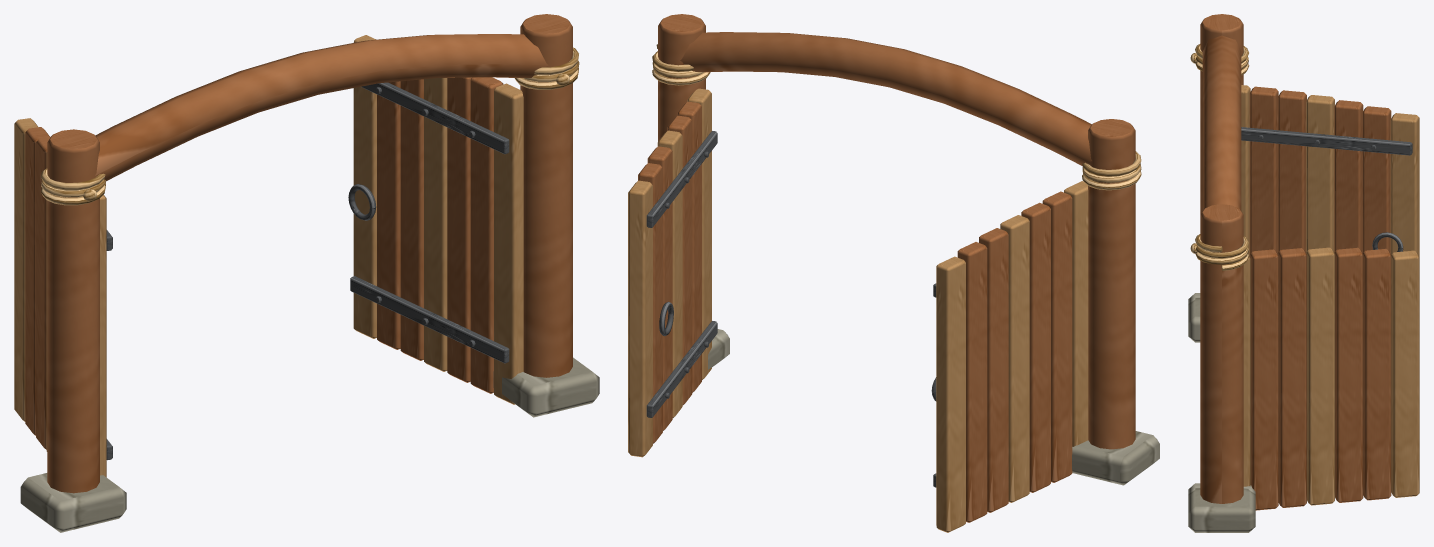
Rendered from SM_WoodGate_Open.glb.
3 renders of one model, left to right at view 1: azimuth 30°, elevation 25°; view 2: azimuth 150°, elevation 25°; view 3: azimuth 270°, elevation 25°, orthographic. The views are drawn at different scales.
Parts seen in each view (by area): view 1: SM_WoodGate_Open; view 2: SM_WoodGate_Open; view 3: SM_WoodGate_Open.
Part boxes in pixels (x1,y1,x2,y2): SM_WoodGate_Open: (14,14,599,532); SM_WoodGate_Open: (628,14,1159,532); SM_WoodGate_Open: (1188,14,1419,532).
Size of the model in its own units: 4.32 by 3.05 by 1.92.
Materials: 1 (1 with a texture image).
